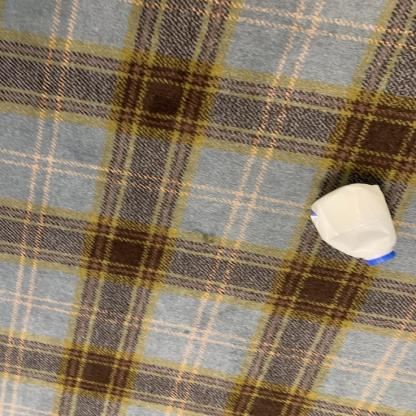trash: (308, 178, 403, 271)
